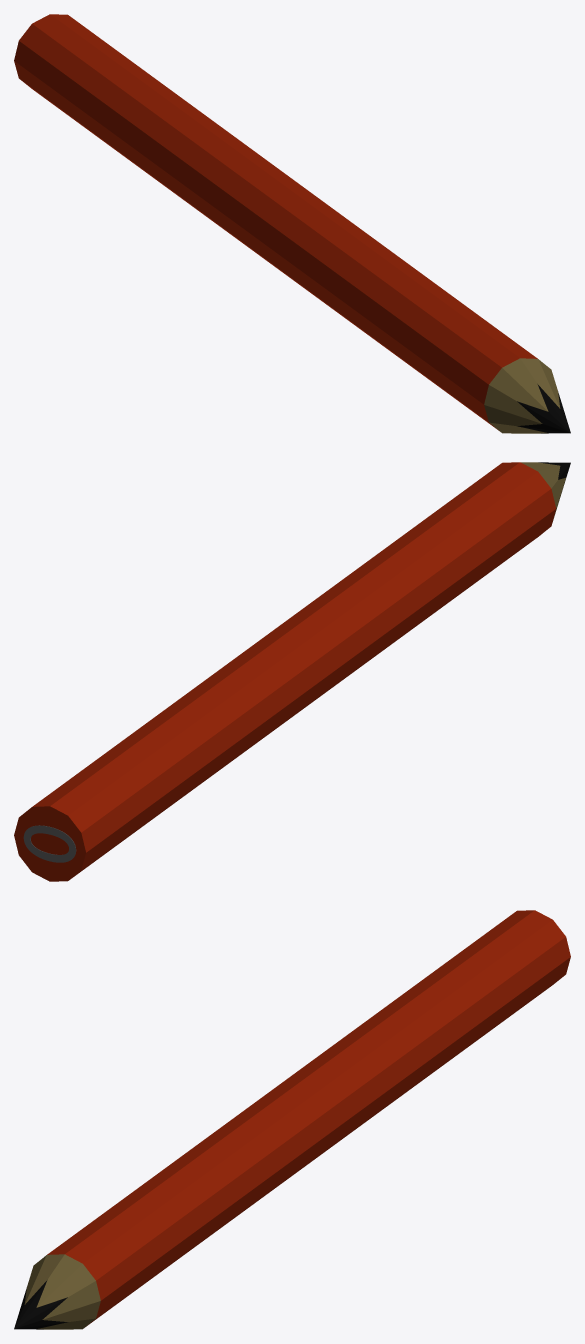
The model's file is orange.obj.
The picture shows the model from 3 angles, top to bottom: view 1: azimuth 30°, elevation 25°; view 2: azimuth 150°, elevation 25°; view 3: azimuth 330°, elevation 25°; orthographic projection.
Parts seen in each view (by area): view 1: orangepencil; view 2: orangepencil; view 3: orangepencil.
Boxes of the visible parts, <box> form: orangepencil: <box>14,14,570,433</box>; orangepencil: <box>14,462,570,881</box>; orangepencil: <box>14,910,570,1329</box>.
Size of the model in its own units: 0.02 by 0.02 by 0.2501.
